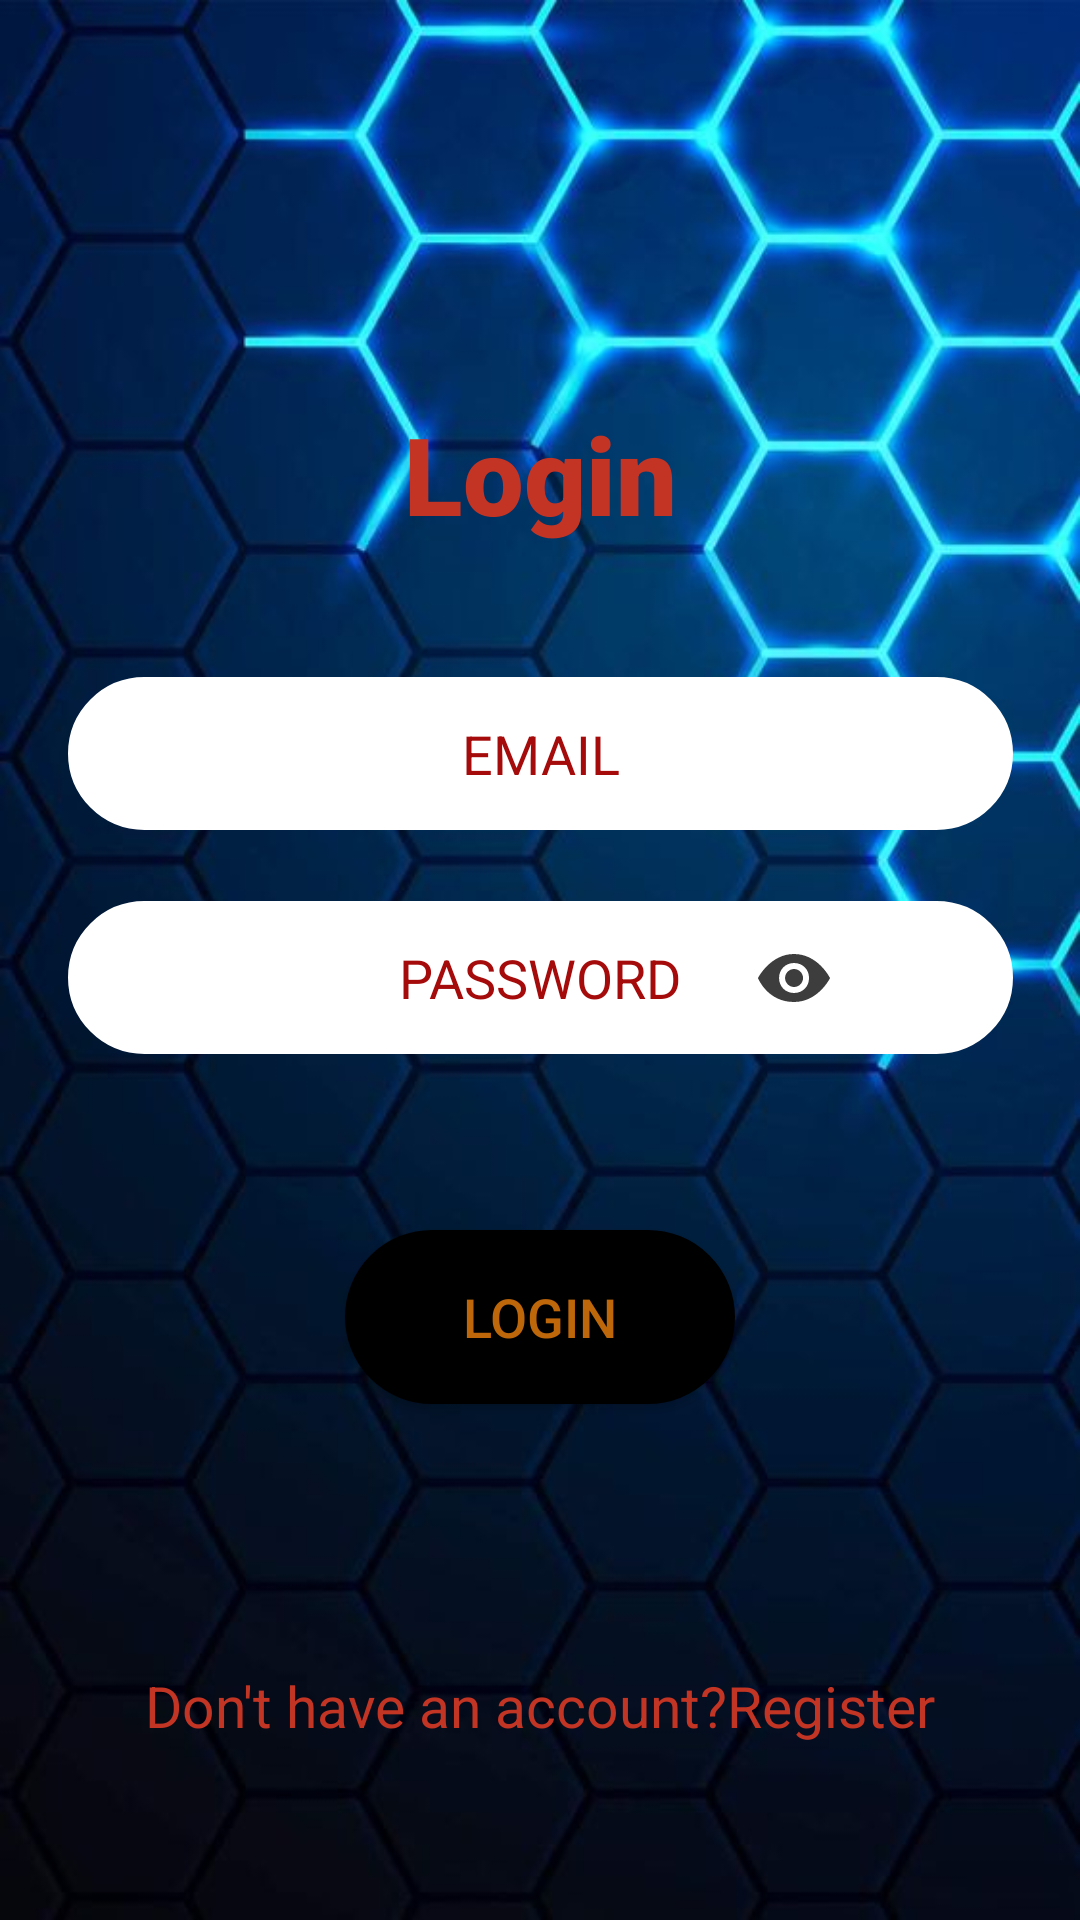

Point at icon controls on the screen. Image size 1080×1920, points as point (x, y).
iconfinder eye: point (794, 978)
